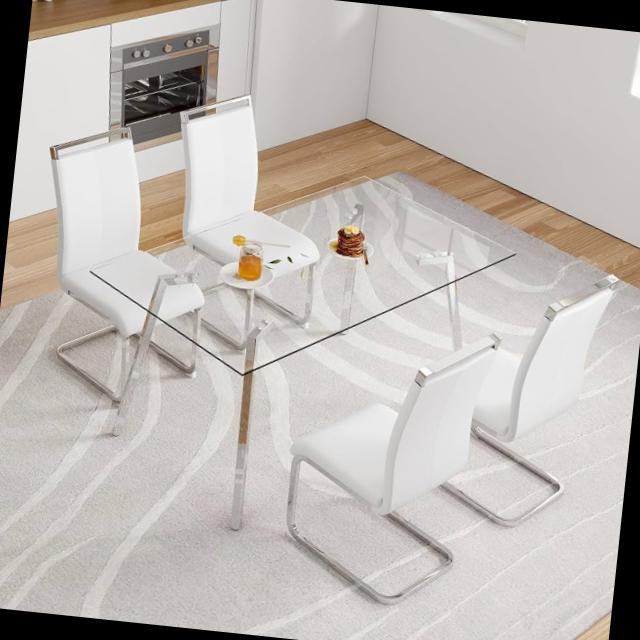glass: (35, 130, 571, 401)
